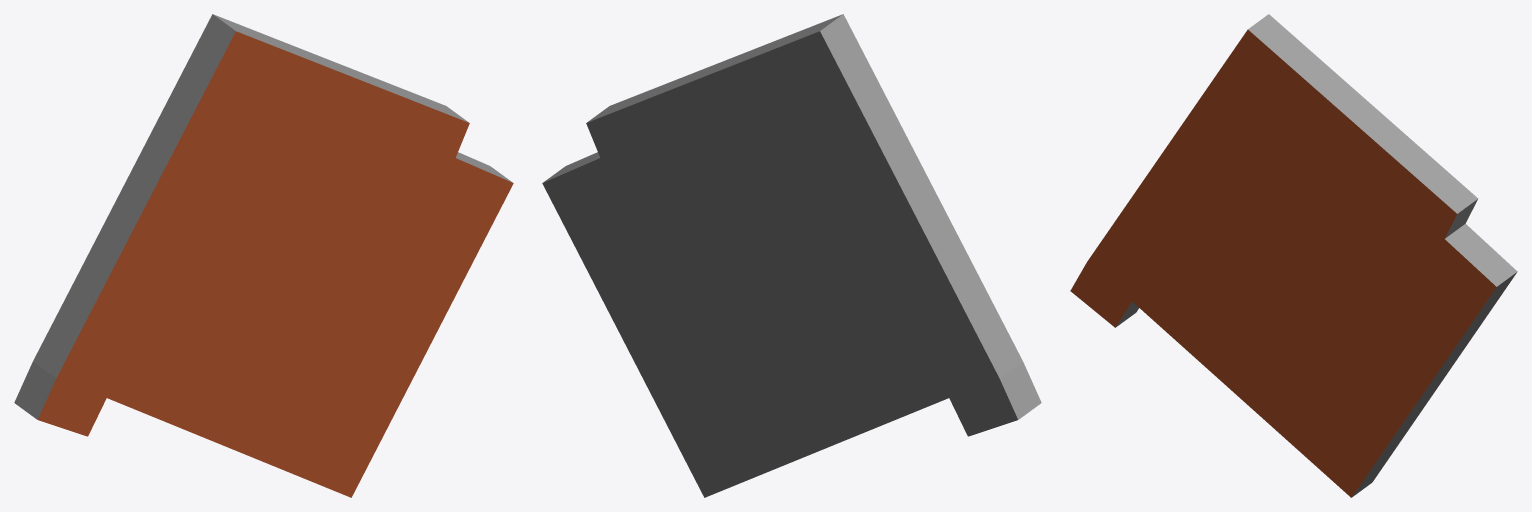
Rendered from construction_4145_assumed_A_Casa_h6m.obj.
3 views of the same model, side by side, from view 1: azimuth 30°, elevation 25°; view 2: azimuth 150°, elevation 25°; view 3: azimuth 330°, elevation 25° (orthographic). The views are drawn at different scales.
Visible parts, largest first — view 1: construction_4145_assumed_A_Casa; view 2: construction_4145_assumed_A_Casa; view 3: construction_4145_assumed_A_Casa.
Part boxes in pixels (x1,y1,x2,y2): construction_4145_assumed_A_Casa: [14, 14, 513, 497]; construction_4145_assumed_A_Casa: [542, 14, 1041, 497]; construction_4145_assumed_A_Casa: [1070, 14, 1517, 497].
Bounding box in the file's own units: 70.32 × 69.86 × 6.
